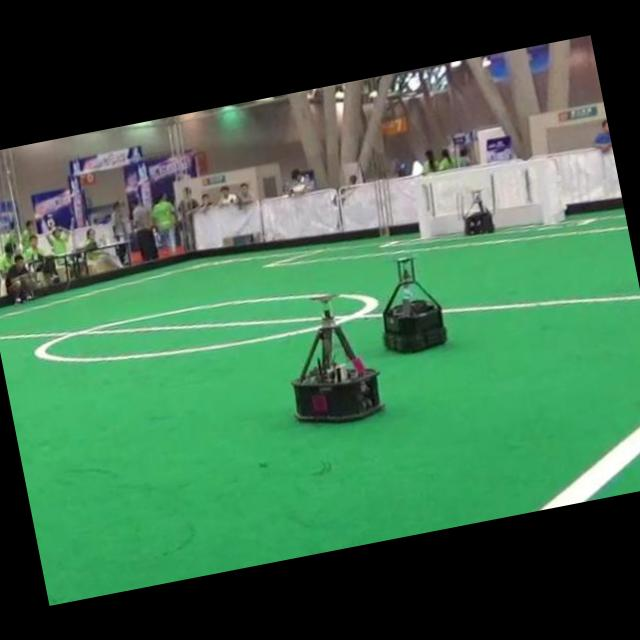goal: (531, 159, 559, 224), (413, 180, 431, 237)
robot: (293, 295, 384, 421), (383, 257, 446, 351), (463, 189, 494, 234)
